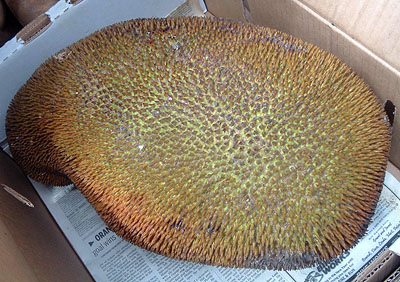jackfruit: (4, 14, 392, 271)
